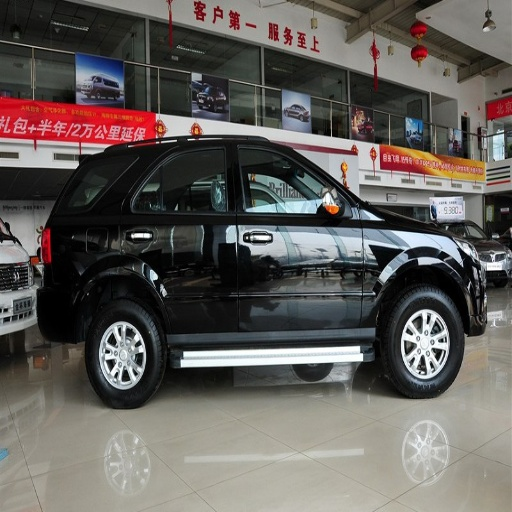back_right_door: (123, 138, 239, 337)
